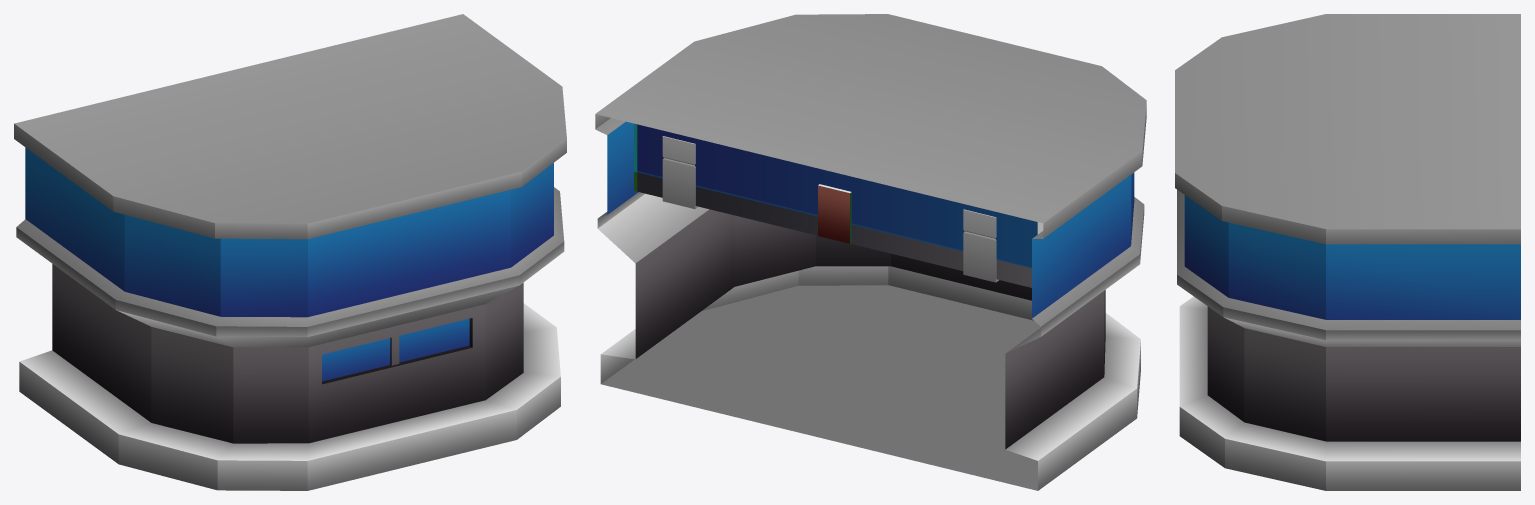
The model's file is AnnouncerBox.fbx.
The picture shows the model from 3 angles, left to right: view 1: azimuth 30°, elevation 25°; view 2: azimuth 150°, elevation 25°; view 3: azimuth 270°, elevation 25°; orthographic projection.
Parts seen in each view (by area): view 1: AnnouncerBox; view 2: AnnouncerBox; view 3: AnnouncerBox.
Part boxes in pixels (bbox=[...]): AnnouncerBox: bbox=[14, 14, 566, 490]; AnnouncerBox: bbox=[595, 14, 1146, 490]; AnnouncerBox: bbox=[1175, 14, 1520, 490].
Size of the model in its own units: 66.26 by 37.98 by 45.01.
1 material, 1 textured.
